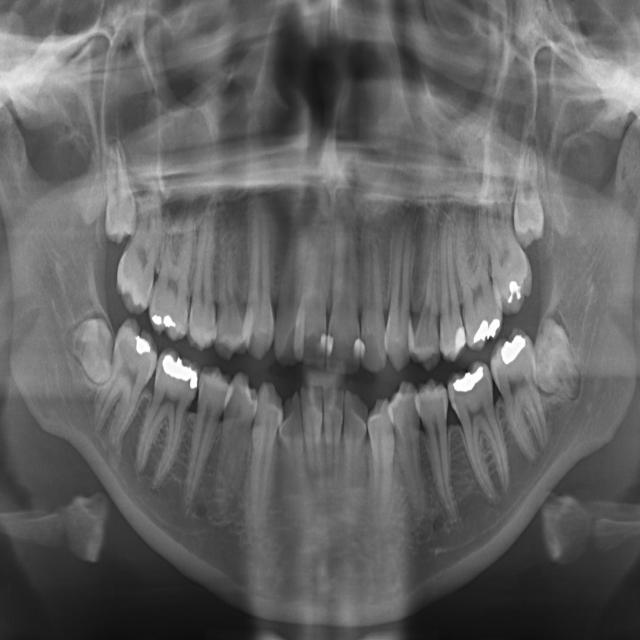AmalgamRestoration: (163, 352, 198, 388), (500, 326, 528, 371), (452, 362, 484, 396), (474, 310, 501, 344), (148, 309, 178, 331), (129, 332, 152, 358), (506, 274, 523, 308)
CompositeResinRestoration: (454, 321, 467, 356), (354, 336, 362, 366), (361, 334, 368, 364), (319, 332, 327, 355), (327, 336, 334, 361)
Crown: (327, 322, 334, 351)
DentalCaries: (449, 390, 465, 418)
